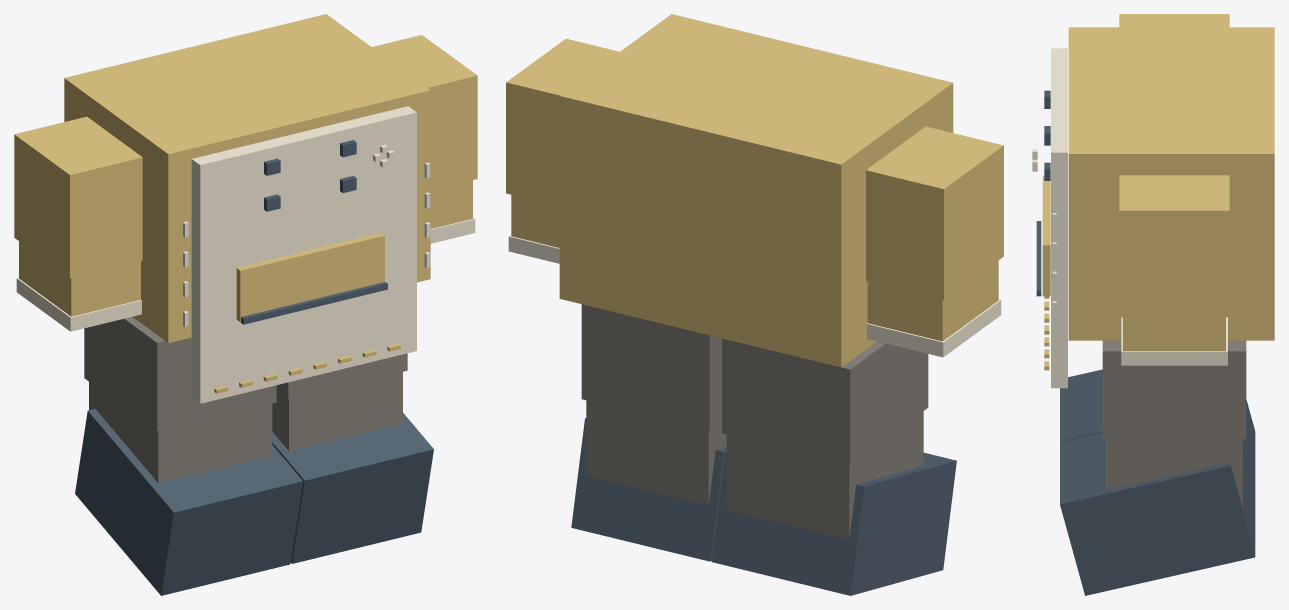
Rendered from chef-amber.glb.
3 renders of one model, left to right at view 1: azimuth 30°, elevation 25°; view 2: azimuth 150°, elevation 25°; view 3: azimuth 270°, elevation 25°, orthographic. The views are drawn at different scales.
Visible parts, largest first — view 1: apron, jacket, shoe-Right, upper-sleeve-Right, shoe-Left, trouser-Right, lower-trouser-Right, upper-sleeve-Left, apron-pocket, lower-trouser-Left, lower-sleeve-Right, trouser-Left (+4 smaller); view 2: jacket, upper-sleeve-Right, trouser-Right, shoe-Right, trouser-Left, lower-trouser-Right, lower-trouser-Left, upper-sleeve-Left, shoe-Left, lower-sleeve-Right, cuff-Right, lower-sleeve-Left (+1 smaller); view 3: jacket, shoe-Left, upper-sleeve-Left, trouser-Left, apron, lower-trouser-Left, lower-sleeve-Left, shoe-Right, cuff-Left, upper-sleeve-Right, apron-pocket, design-chef-apron-pocket-binding.
Part boxes in pixels (x1,y1,x2,y2): apron: [191, 106, 416, 403]; jacket: [64, 14, 430, 342]; shoe-Right: [75, 409, 302, 595]; upper-sleeve-Right: [14, 116, 142, 278]; shoe-Left: [272, 413, 433, 563]; trouser-Right: [84, 317, 276, 431]; lower-trouser-Right: [89, 382, 272, 482]; upper-sleeve-Left: [372, 35, 477, 190]; apron-pocket: [236, 233, 384, 322]; lower-trouser-Left: [272, 372, 402, 451]; lower-sleeve-Right: [19, 241, 140, 316]; trouser-Left: [276, 353, 407, 399]; jacket: [559, 14, 953, 367]; upper-sleeve-Right: [866, 126, 1003, 300]; trouser-Right: [722, 338, 928, 464]; shoe-Right: [712, 452, 956, 595]; trouser-Left: [581, 304, 721, 430]; lower-trouser-Right: [726, 411, 923, 539]; lower-trouser-Left: [586, 400, 726, 505]; upper-sleeve-Left: [506, 38, 619, 206]; shoe-Left: [571, 418, 726, 561]; lower-sleeve-Right: [867, 260, 998, 341]; cuff-Right: [867, 299, 1001, 357]; lower-sleeve-Left: [511, 195, 559, 247]; jacket: [1068, 27, 1274, 340]; shoe-Left: [1060, 432, 1255, 595]; upper-sleeve-Left: [1119, 175, 1229, 312]; trouser-Left: [1102, 340, 1246, 438]; apron: [1051, 48, 1067, 388]; lower-trouser-Left: [1106, 439, 1242, 507]; lower-sleeve-Left: [1123, 312, 1225, 350]; shoe-Right: [1060, 369, 1255, 493]; cuff-Left: [1121, 317, 1227, 365]; upper-sleeve-Right: [1119, 14, 1229, 27]; apron-pocket: [1042, 175, 1050, 296]; design-chef-apron-pocket-binding: [1036, 221, 1041, 296].
Size of the model in its own units: 1.07 by 1.13 by 0.559.
